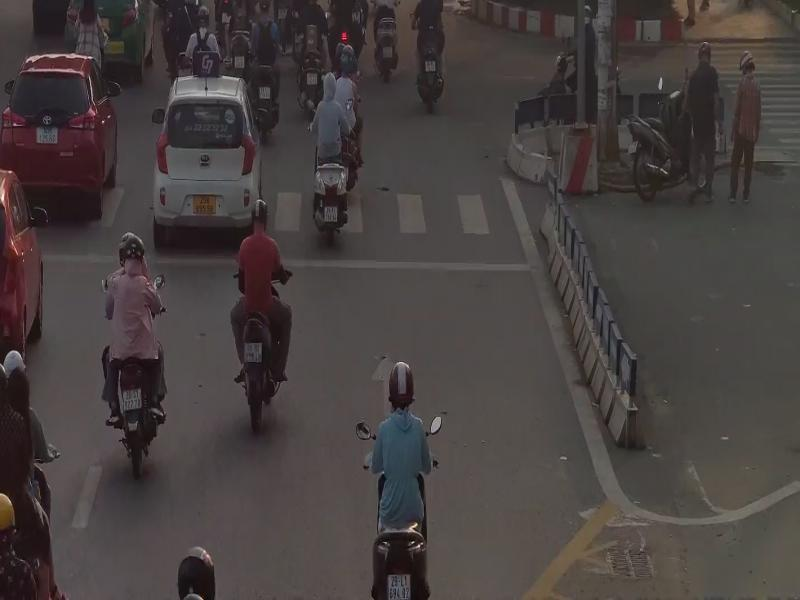helmet: (178, 545, 216, 600), (389, 360, 414, 407), (0, 488, 16, 531), (4, 351, 28, 377), (123, 235, 146, 259), (249, 198, 268, 222), (738, 50, 756, 73), (196, 4, 210, 28), (698, 39, 712, 60)
license_plate: (387, 571, 412, 600), (193, 193, 217, 216), (121, 386, 143, 411), (36, 123, 59, 146), (244, 340, 263, 363), (324, 204, 339, 223), (305, 71, 318, 86), (258, 85, 271, 99), (424, 58, 436, 73), (234, 55, 245, 69)
motorcyclist: (355, 360, 444, 600), (101, 230, 168, 479), (0, 350, 61, 600), (229, 199, 294, 432), (308, 71, 354, 248), (248, 0, 282, 143), (410, 0, 446, 113), (296, 0, 328, 120), (371, 0, 399, 82)
